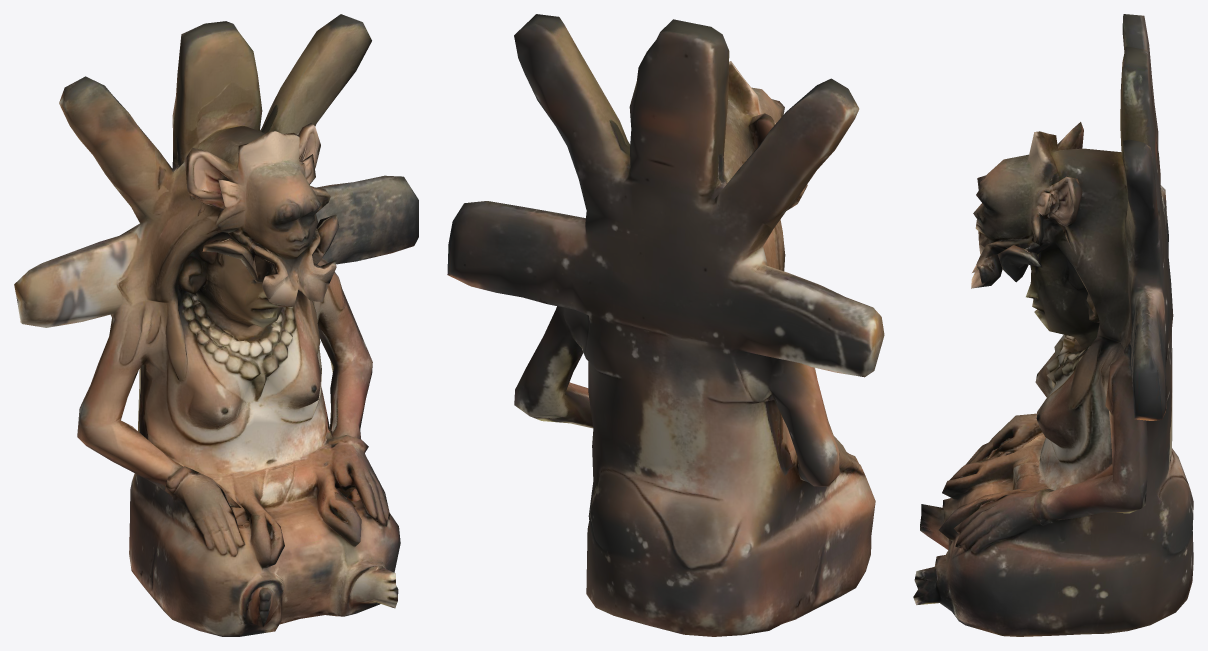
The model's file is Diosa_Tlazoltotl.glb.
The picture shows the model from 3 angles, left to right: view 1: azimuth 30°, elevation 25°; view 2: azimuth 150°, elevation 25°; view 3: azimuth 270°, elevation 25°; orthographic projection. The views are drawn at different scales.
Visible parts, largest first — view 1: Mesh1.0; view 2: Mesh1.0; view 3: Mesh1.0.
Part boxes in pixels (<box>): Mesh1.0: <box>14,14,418,636</box>; Mesh1.0: <box>447,14,884,636</box>; Mesh1.0: <box>913,14,1193,636</box>.
Bounding box in the file's own units: 0.3817 × 0.5 × 0.2391.
1 material, 1 textured.
